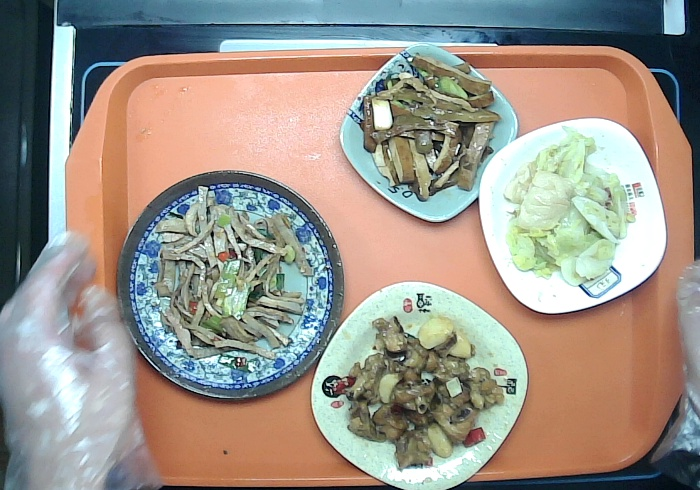NLDX-Bai_Se_Xiao_Fang_Die: (475, 115, 668, 317)
NLDX-Fu_Zi_Fang_Die: (308, 278, 529, 490)
NLDX-Qing_Hua_Xiao_Fang_Die: (335, 39, 520, 225)
NLDX-Qing_Hua_Yuan_Die: (113, 168, 348, 403)
